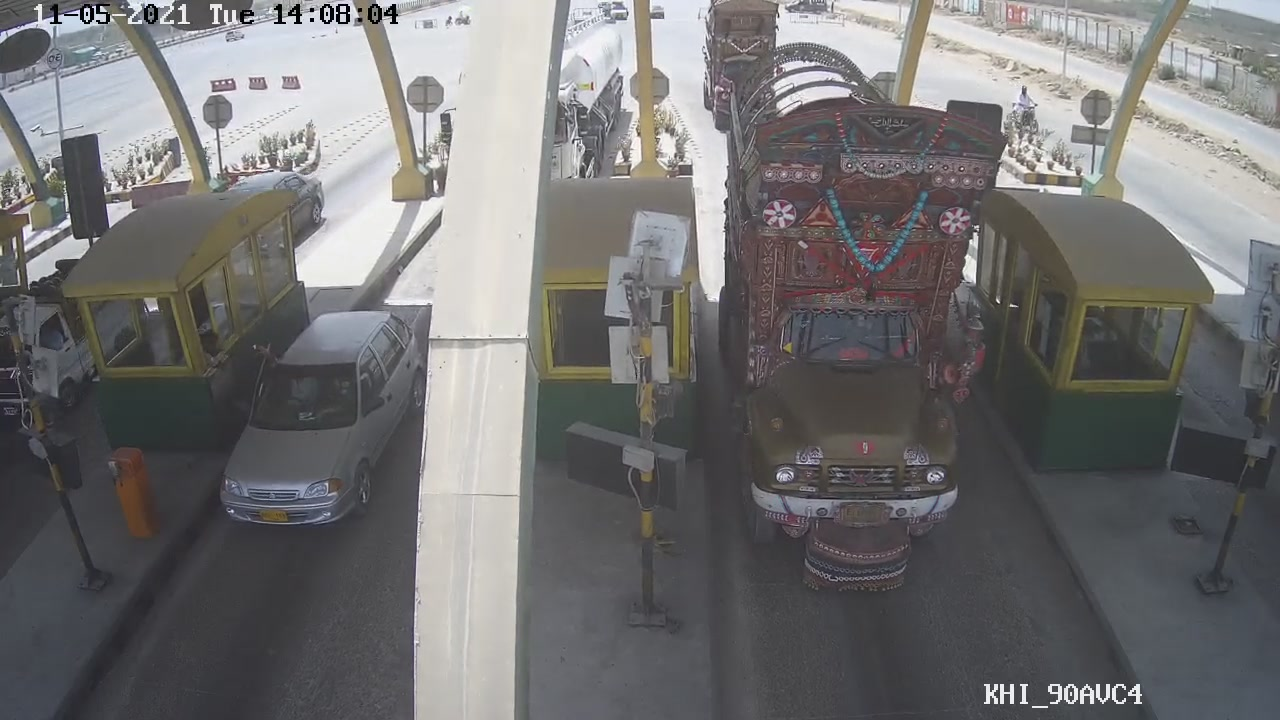F5: (709, 49, 1002, 600)
